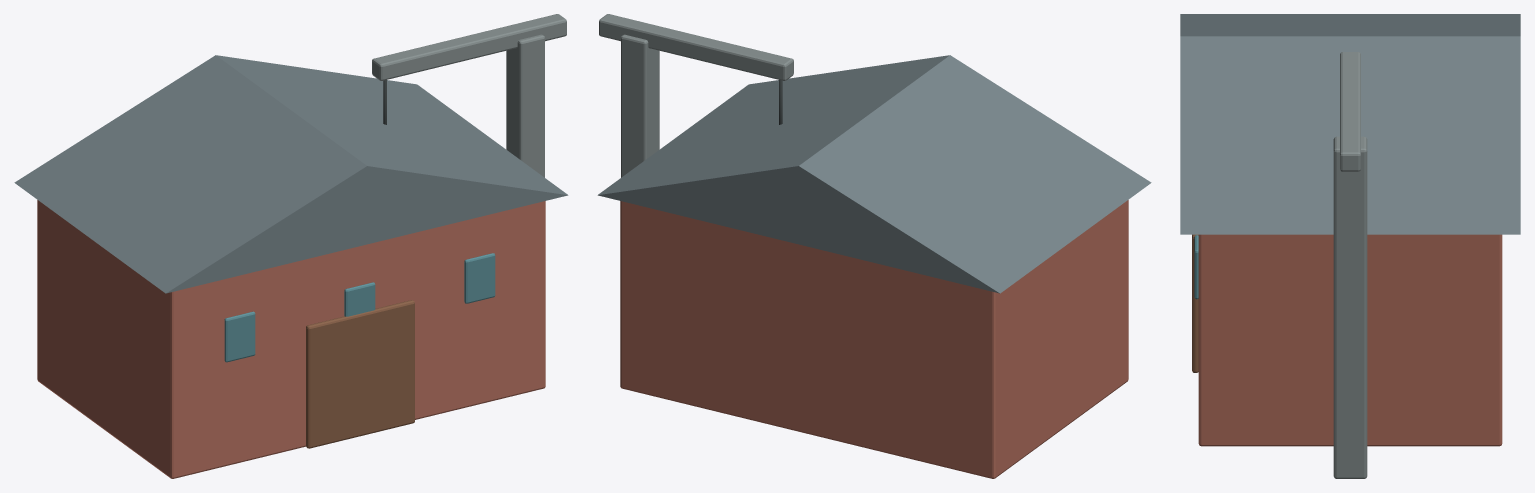
The model's file is harbour_terminal.glb.
3 views of the same model, side by side, from view 1: azimuth 30°, elevation 25°; view 2: azimuth 150°, elevation 25°; view 3: azimuth 270°, elevation 25° (orthographic). The views are drawn at different scales.
Parts seen in each view (by area): view 1: harbour_terminal_brick, harbour_terminal_tile, harbour_terminal_timber, harbour_terminal_steel, harbour_terminal_glass; view 2: harbour_terminal_brick, harbour_terminal_tile, harbour_terminal_steel; view 3: harbour_terminal_tile, harbour_terminal_brick, harbour_terminal_steel, harbour_terminal_timber.
Part boxes in pixels (x1,y1,x2,y2): harbour_terminal_brick: (37, 200, 545, 478); harbour_terminal_tile: (14, 55, 568, 293); harbour_terminal_timber: (306, 300, 414, 448); harbour_terminal_steel: (372, 14, 566, 177); harbour_terminal_glass: (224, 253, 495, 362); harbour_terminal_brick: (620, 200, 1128, 478); harbour_terminal_tile: (597, 55, 1151, 293); harbour_terminal_steel: (599, 14, 793, 177); harbour_terminal_tile: (1180, 14, 1520, 234); harbour_terminal_brick: (1198, 234, 1502, 446); harbour_terminal_steel: (1333, 52, 1367, 478); harbour_terminal_timber: (1192, 234, 1198, 372).
Size of the model in its own units: 10.1 by 6.17 by 5.6.
